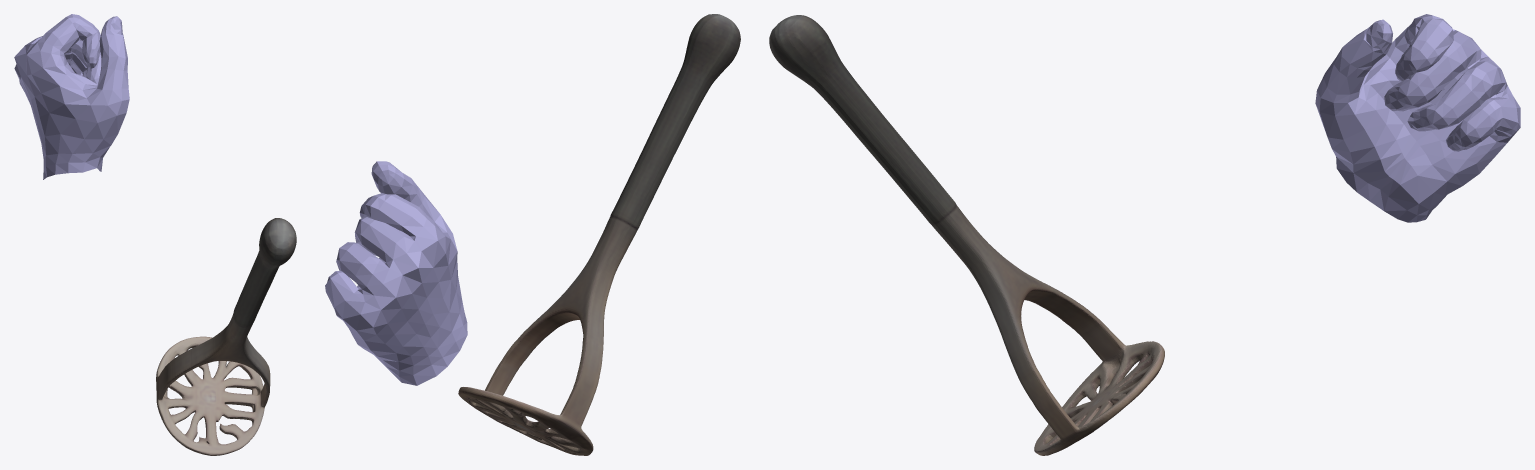
File: frame_0053_source_000053_hand_object.glb
The picture shows the model from 3 angles, left to right: view 1: azimuth 30°, elevation 25°; view 2: azimuth 150°, elevation 25°; view 3: azimuth 270°, elevation 25°; orthographic projection. The views are drawn at different scales.
Parts seen in each view (by area): view 1: world; view 2: world; view 3: world.
Boxes of the visible parts, bbox=[...] form: world: bbox=[14, 14, 296, 455]; world: bbox=[325, 14, 740, 455]; world: bbox=[769, 14, 1520, 455].
Size of the model in its own units: 0.084 by 0.2402 by 0.3724.
